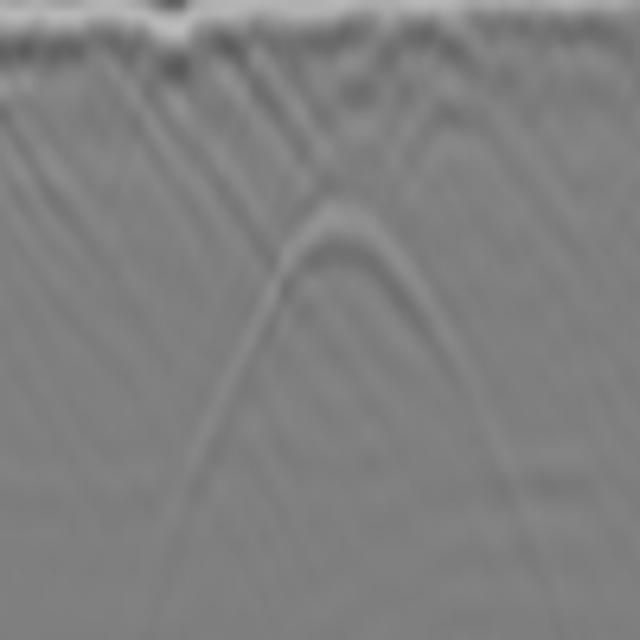hyperbola: (232, 186, 471, 392)
